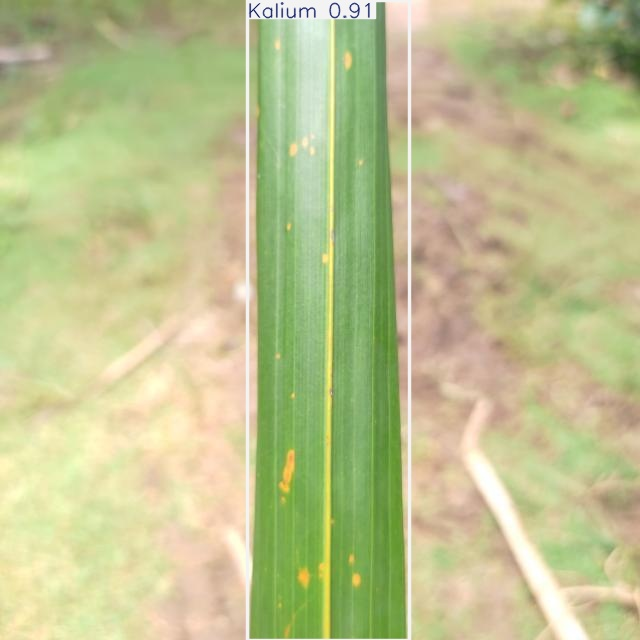Kalium: (248, 0, 409, 640)
